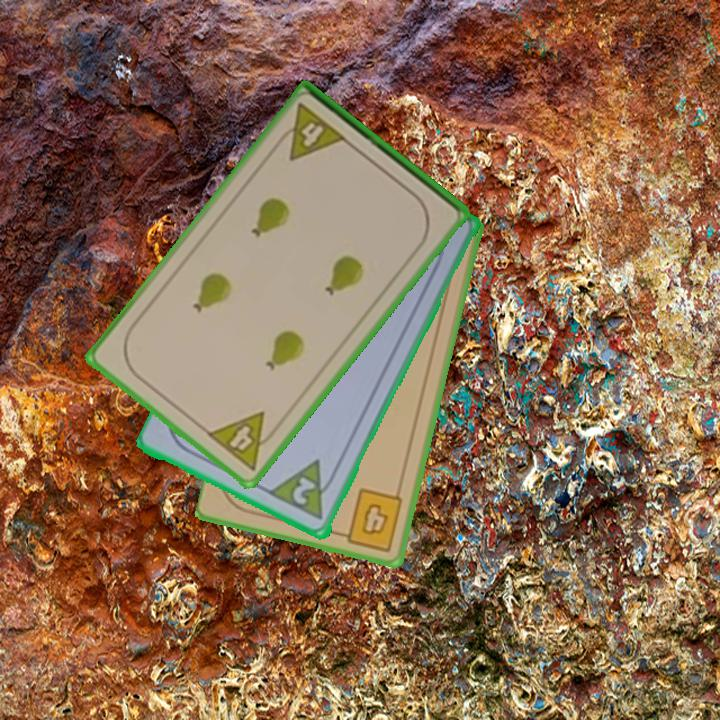2p: (266, 456, 341, 524)
4b: (334, 485, 406, 555)
4p: (203, 408, 284, 474), (271, 99, 350, 164)
